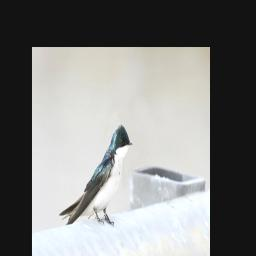Swallow: (58, 122, 134, 230)
